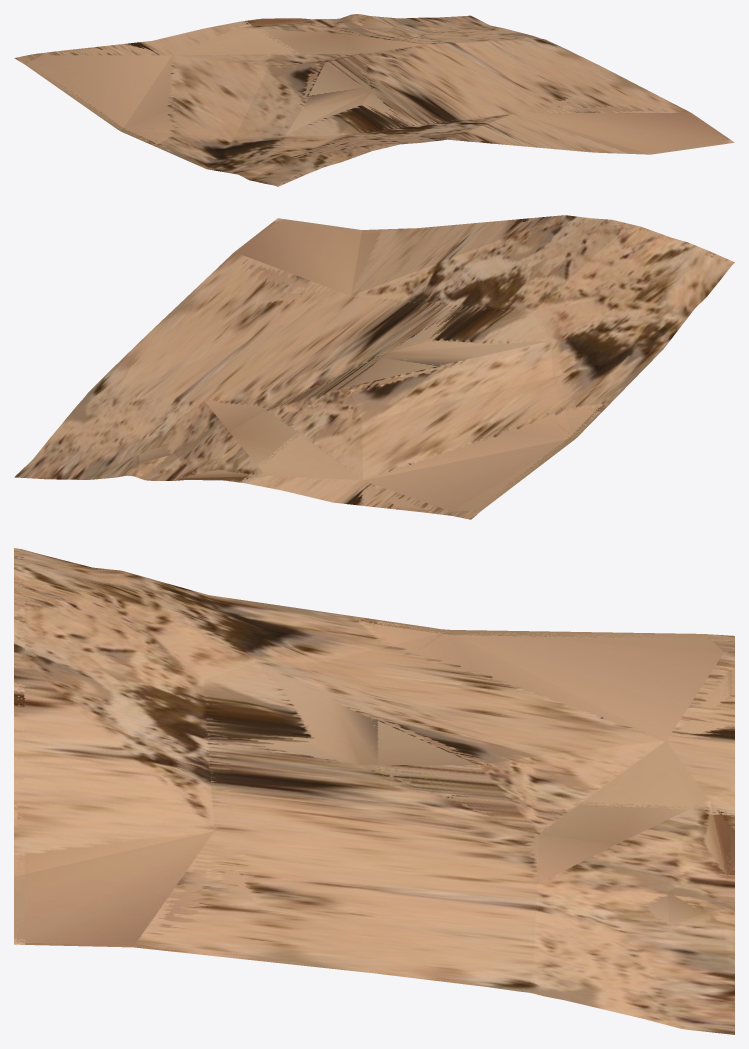
3 views of the same model, one above another, from view 1: azimuth 30°, elevation 25°; view 2: azimuth 150°, elevation 25°; view 3: azimuth 270°, elevation 25° (orthographic). The views are drawn at different scales.
Size of the model in its own units: 2.09 by 0.6384 by 2.09.
Materials: 3 (3 with a texture image).
